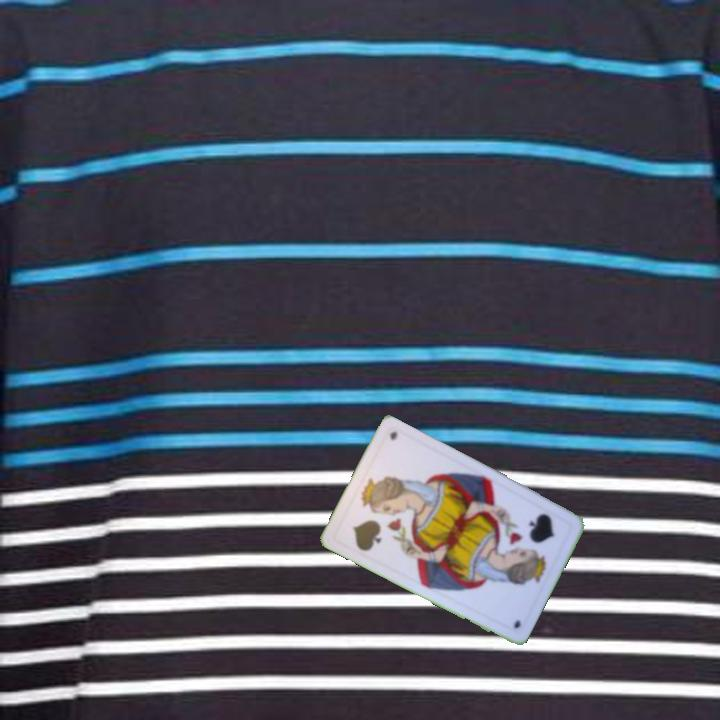s_q.png: (331, 480, 411, 565), (495, 497, 575, 581)
